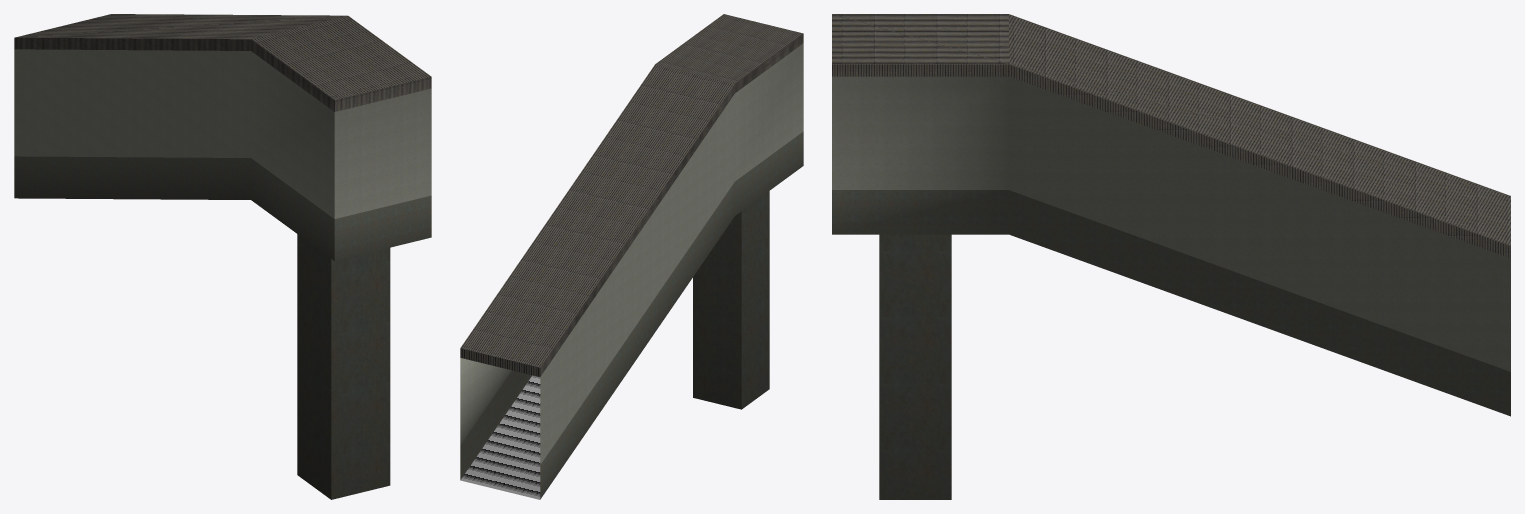
3 renders of one model, left to right at view 1: azimuth 30°, elevation 25°; view 2: azimuth 150°, elevation 25°; view 3: azimuth 270°, elevation 25°, orthographic. The views are drawn at different scales.
Parts seen in each view (by area): view 1: small; view 2: small; view 3: small.
Part boxes in pixels (x1,y1,x2,y2): small: (14,14,431,499); small: (460,14,803,499); small: (832,14,1510,499).
Bounding box in the file's own units: 8.22 × 34.02 × 46.96.
4 materials, 4 textured.
